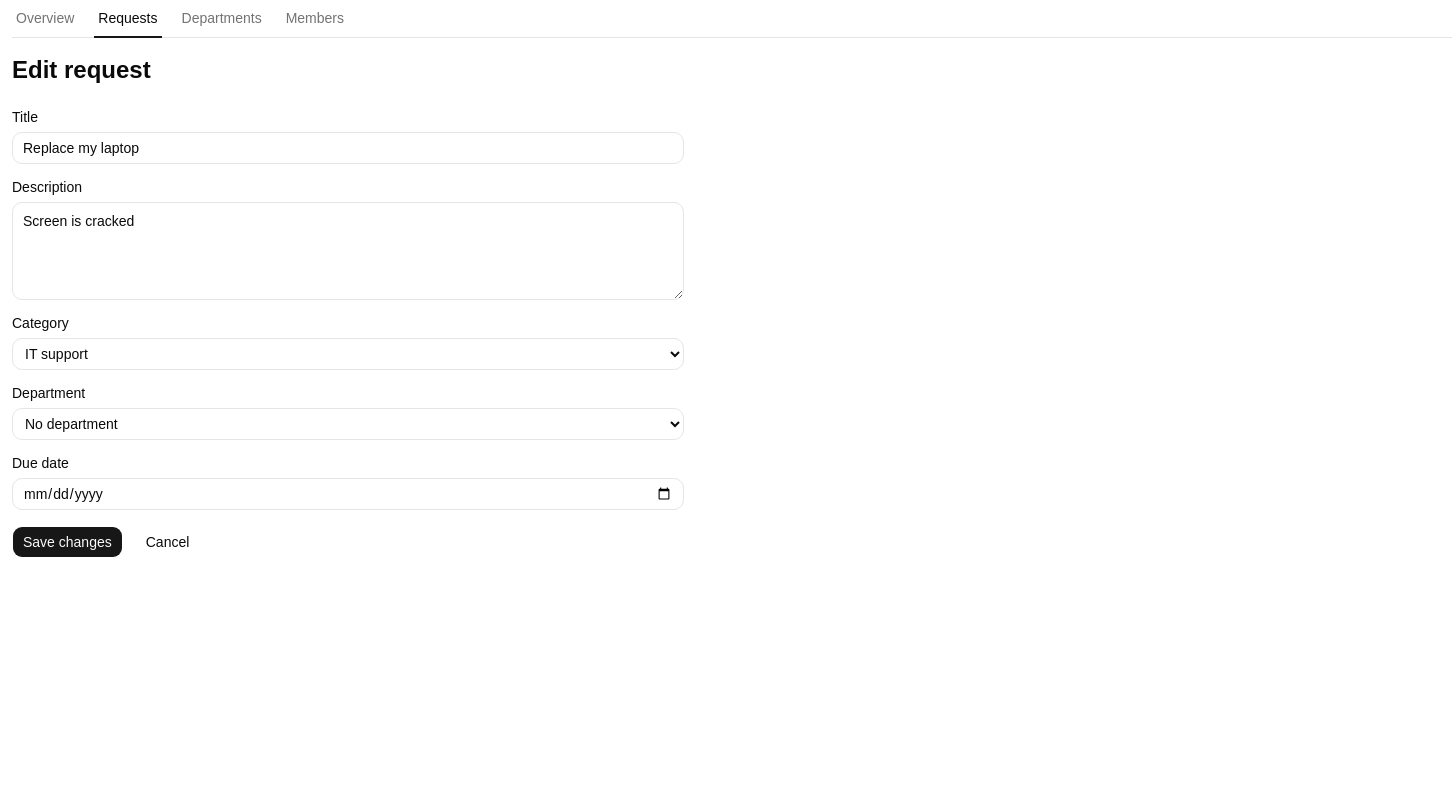
Test case: RequestFormPage (edit) › loads the request and saves changes with the version it saw
Check: the text box labelled "Description" holds "Screen is cracked", box [12, 202, 684, 300]
Replace the text in the field labelled "Title" with "Renamed" at (348, 148), box [12, 132, 684, 164]
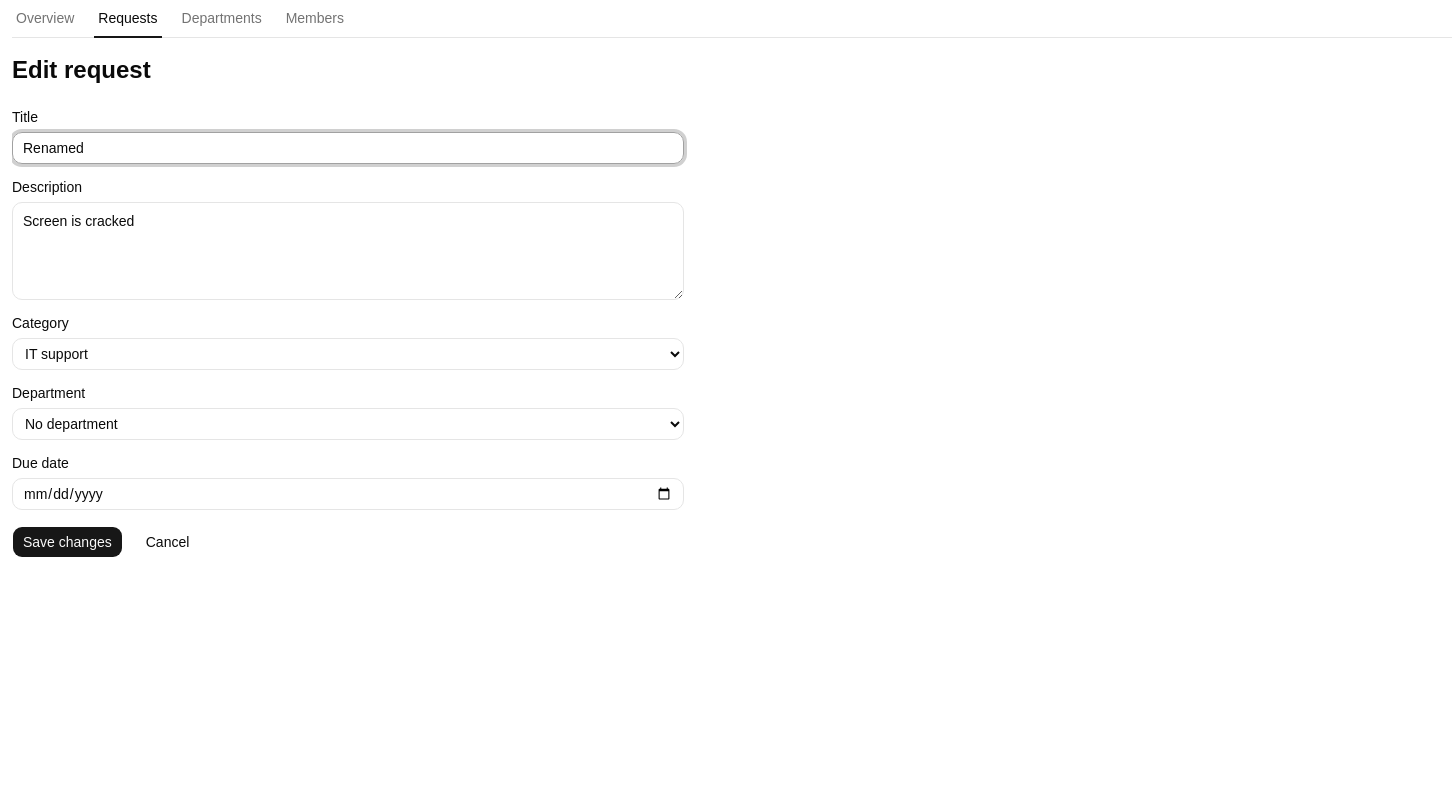
Click the button "Save changes" at (67, 542), box [12, 526, 123, 558]
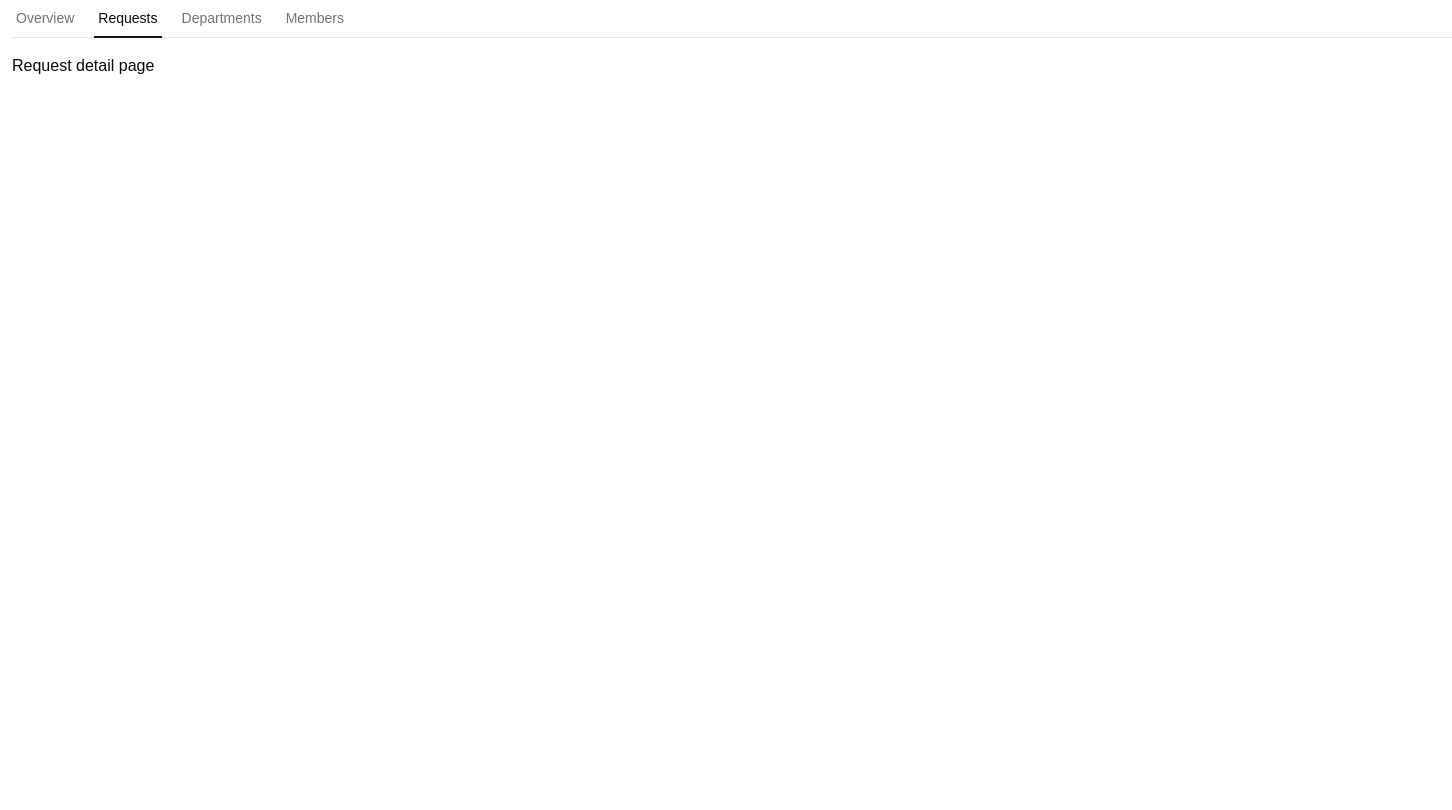
Check: the text "Request detail page" is shown, box [12, 57, 154, 74]
